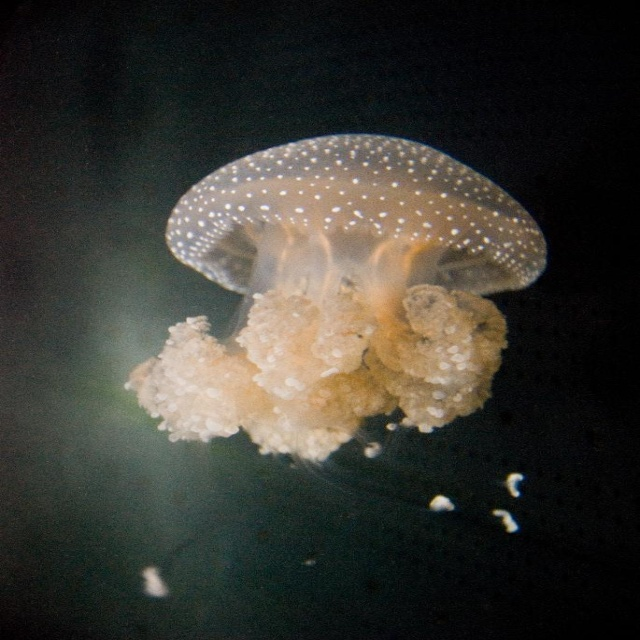Jellyfish: (120, 131, 550, 602)
